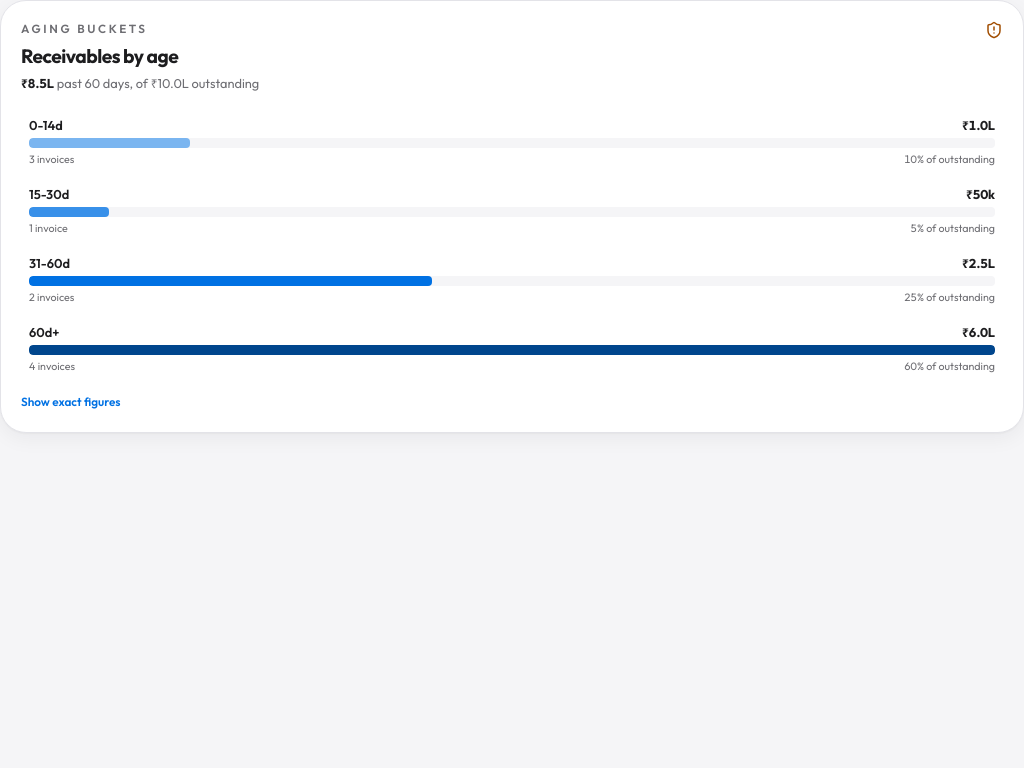
Scenario: AgingRunway › offers exact figures as a table
What coordinates should you click on to do the following:
click the button "Show exact figures"
I would click on:
 (71, 402)
Its box is [21,394,120,410].
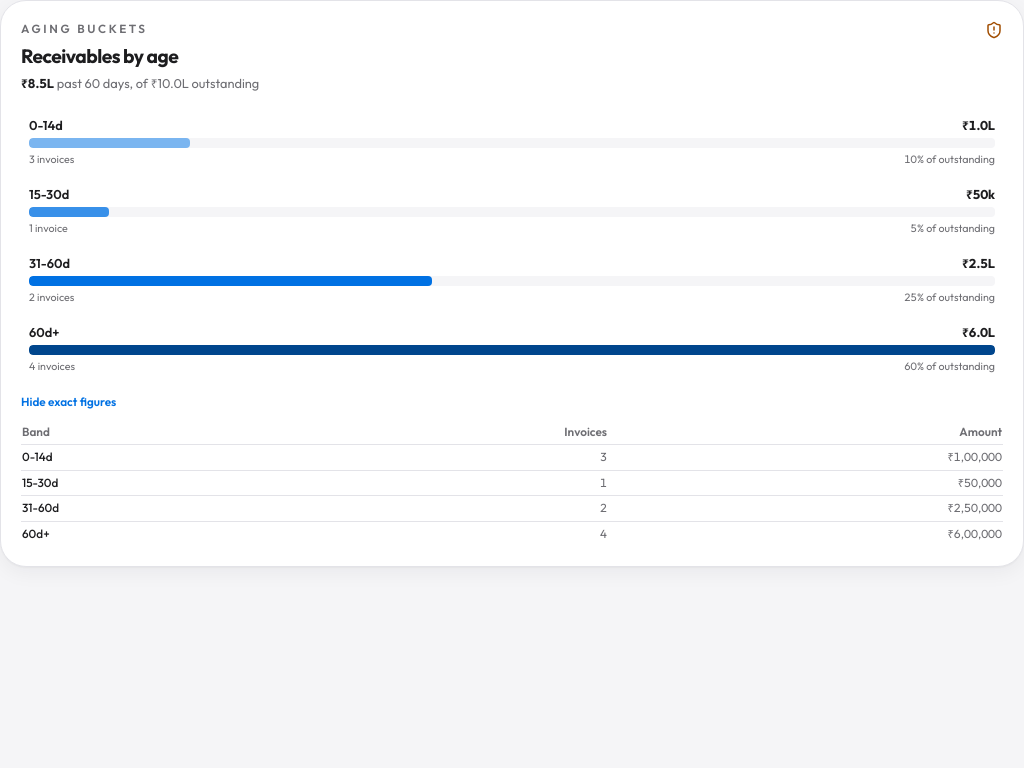
Expected: the text "₹6,00,000" is shown, [608,521,1003,546]
Expected: the text "₹50,000" is shown, [608,470,1003,496]
